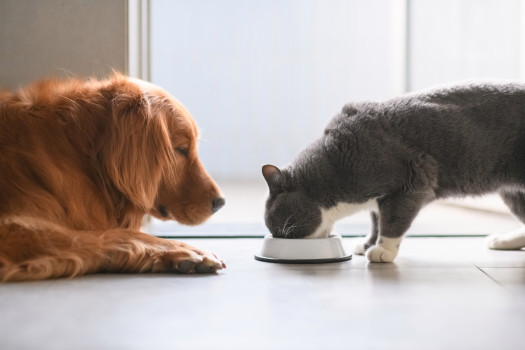cat: (258, 160, 335, 245)
dog: (95, 67, 229, 228)
